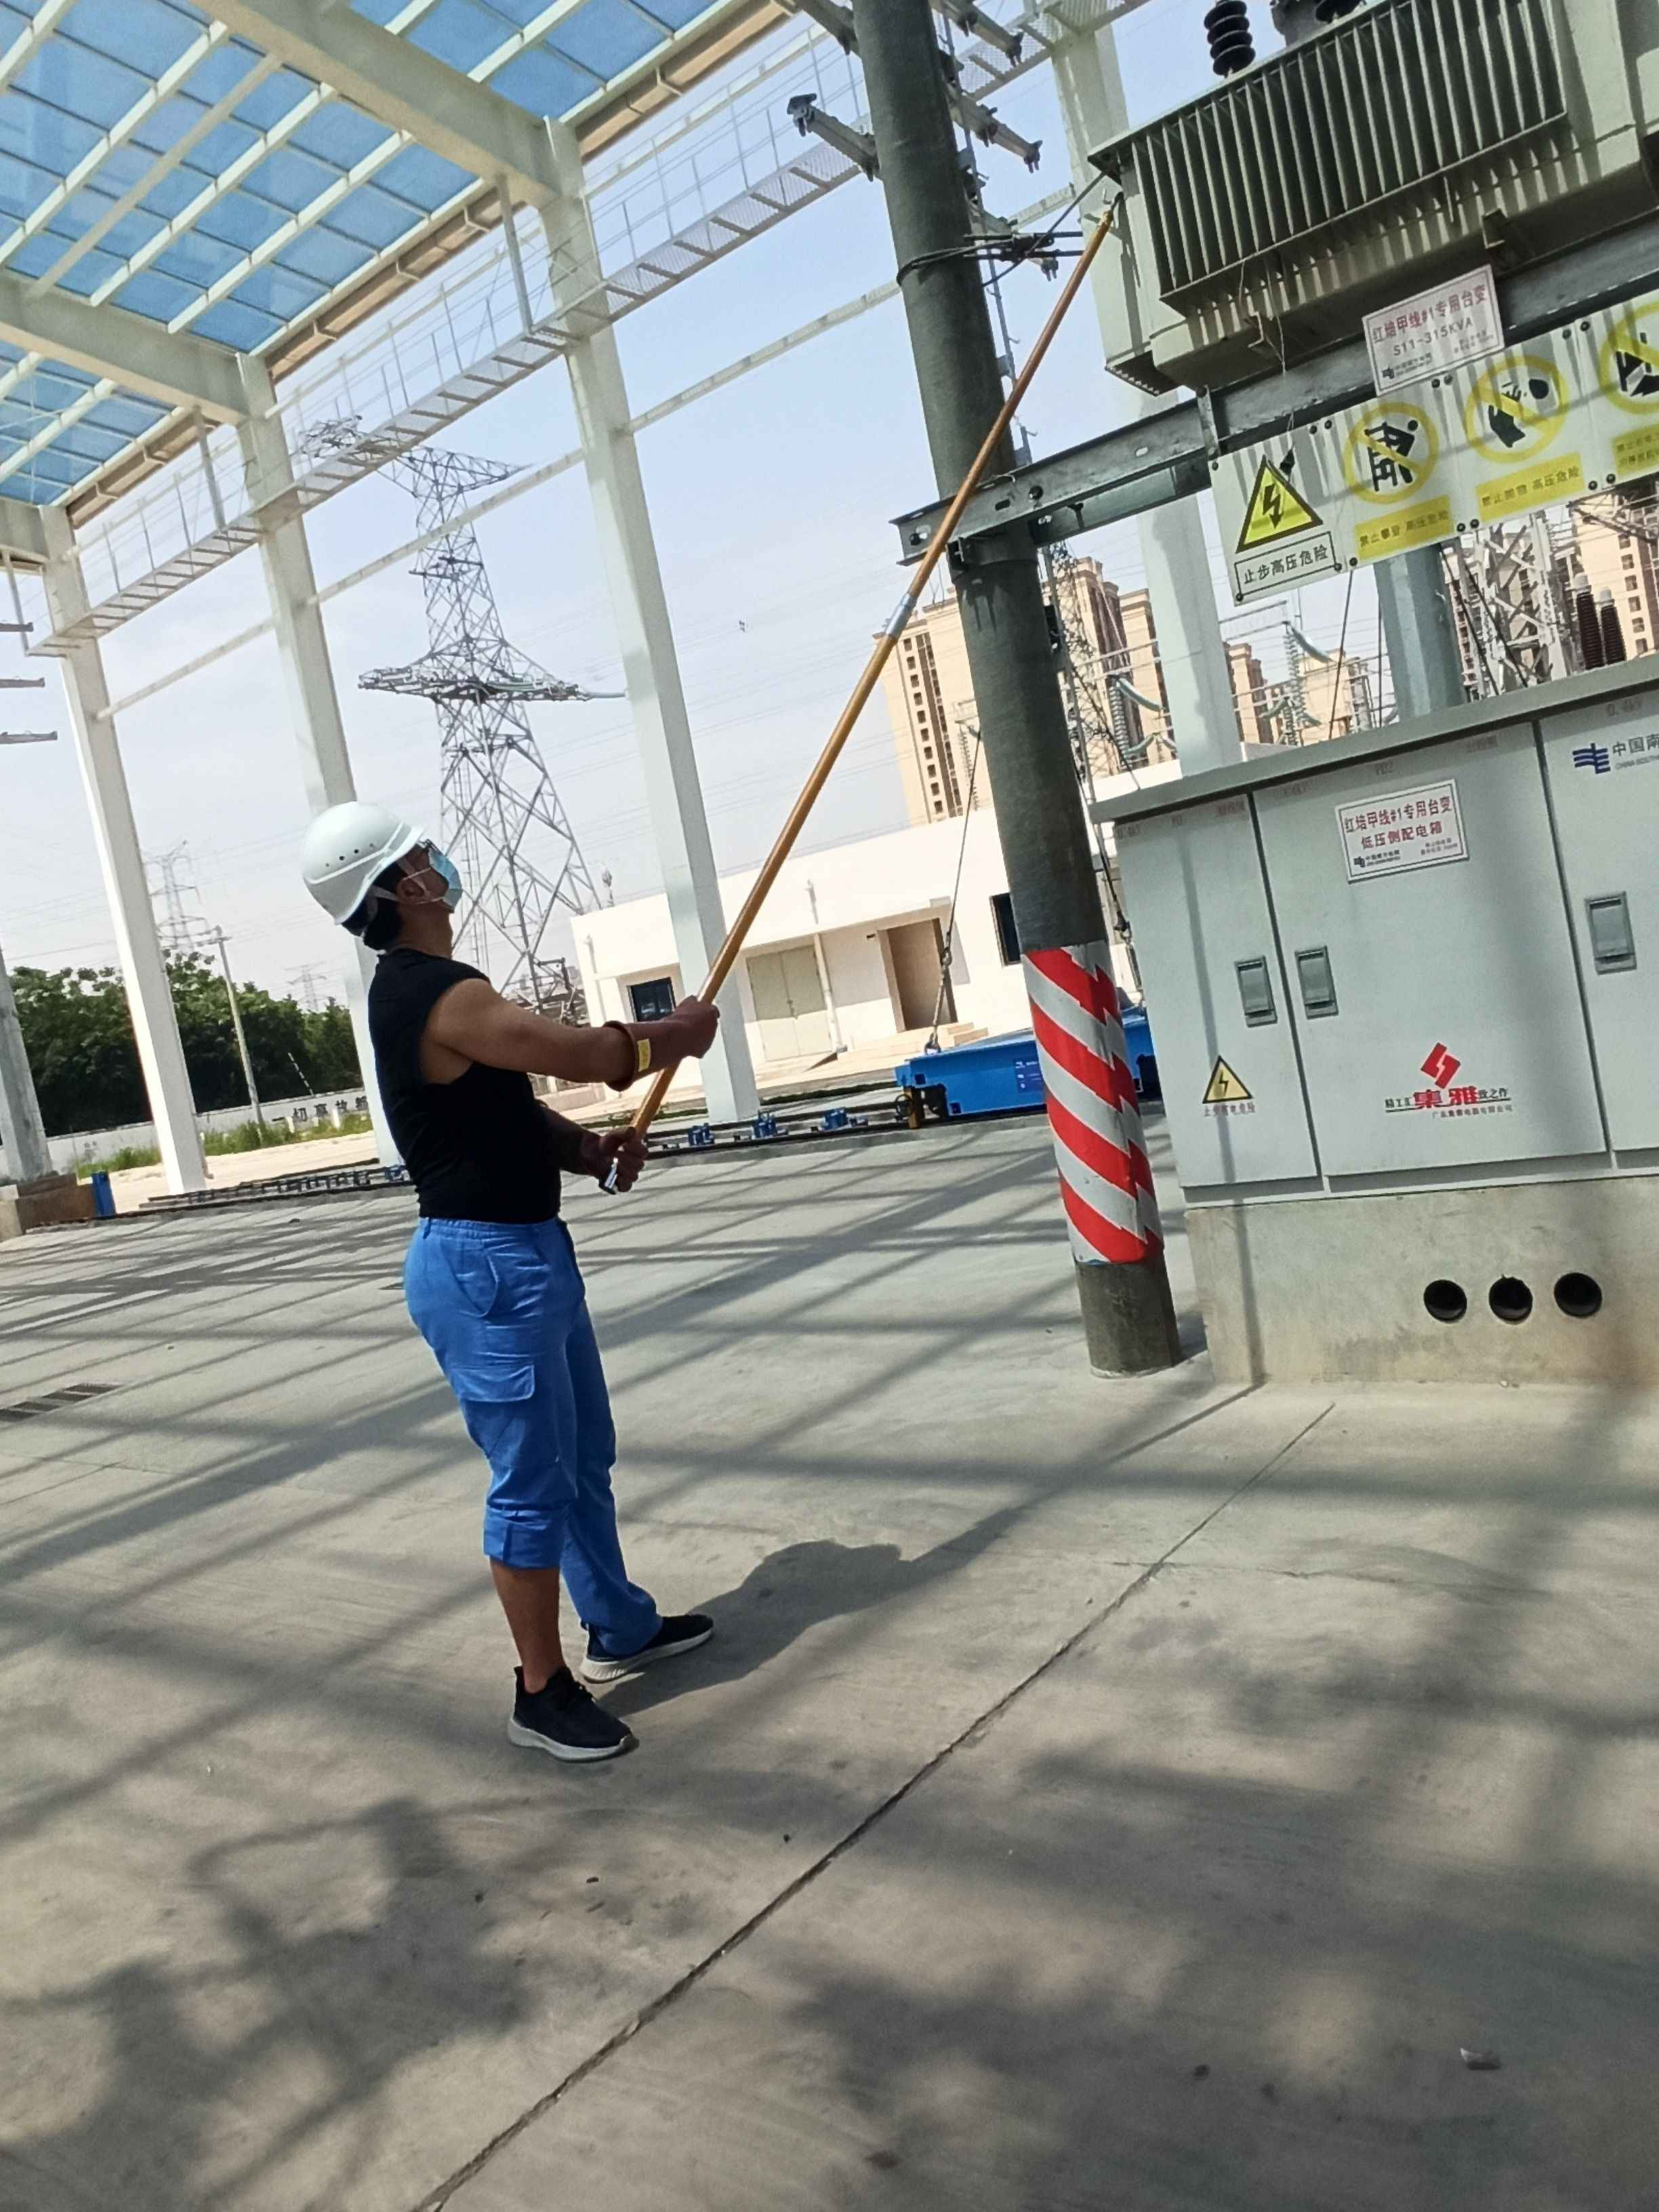downsuit: (406, 1217, 652, 1689)
upcloth: (369, 960, 558, 1207)
wrongbottom: (483, 1522, 575, 1696)
